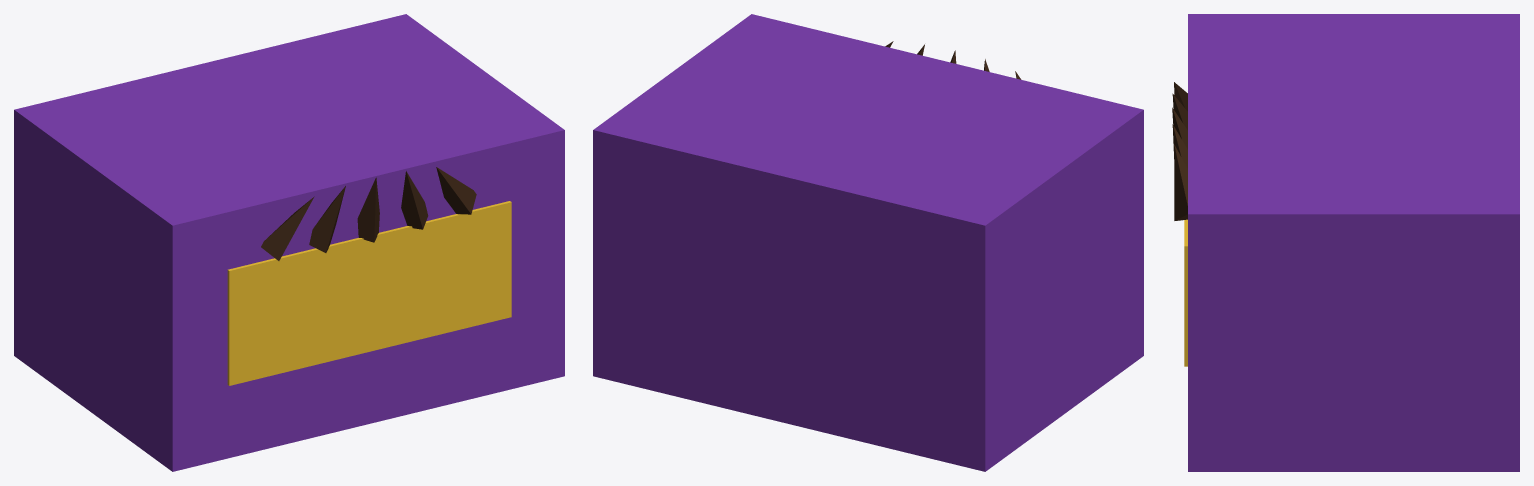
Rendered from super_tonic_box.glb.
3 views of the same model, side by side, from view 1: azimuth 30°, elevation 25°; view 2: azimuth 150°, elevation 25°; view 3: azimuth 270°, elevation 25° (orthographic). The views are drawn at different scales.
Parts seen in each view (by area): view 1: box_tonic_box, label_tonic_label, hair_tonic_hair (×5); view 2: box_tonic_box; view 3: box_tonic_box, hair_tonic_hair, label_tonic_label.
Boxes of the visible parts, x1,y1,x2,y2 form: box_tonic_box: [14, 14, 564, 471]; label_tonic_label: [227, 201, 511, 385]; hair_tonic_hair (×5): [261, 167, 476, 260]; box_tonic_box: [593, 14, 1143, 471]; box_tonic_box: [1188, 14, 1519, 471]; hair_tonic_hair: [1174, 144, 1187, 220]; label_tonic_label: [1184, 219, 1187, 366].
Bounding box in the file's own units: 0.5 × 0.3082 × 0.3668.
